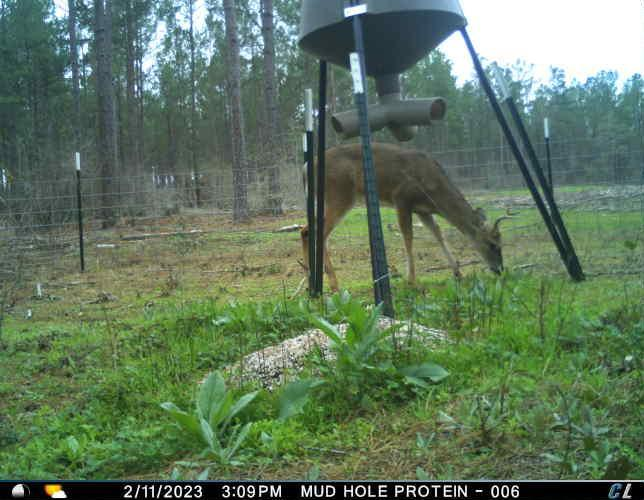Deer: (301, 140, 511, 299)
